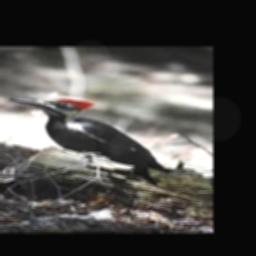Woodpecker: (9, 96, 172, 182)
